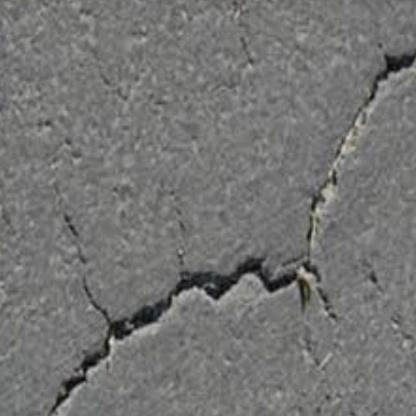Cracks: (36, 27, 416, 416), (60, 210, 82, 241)
